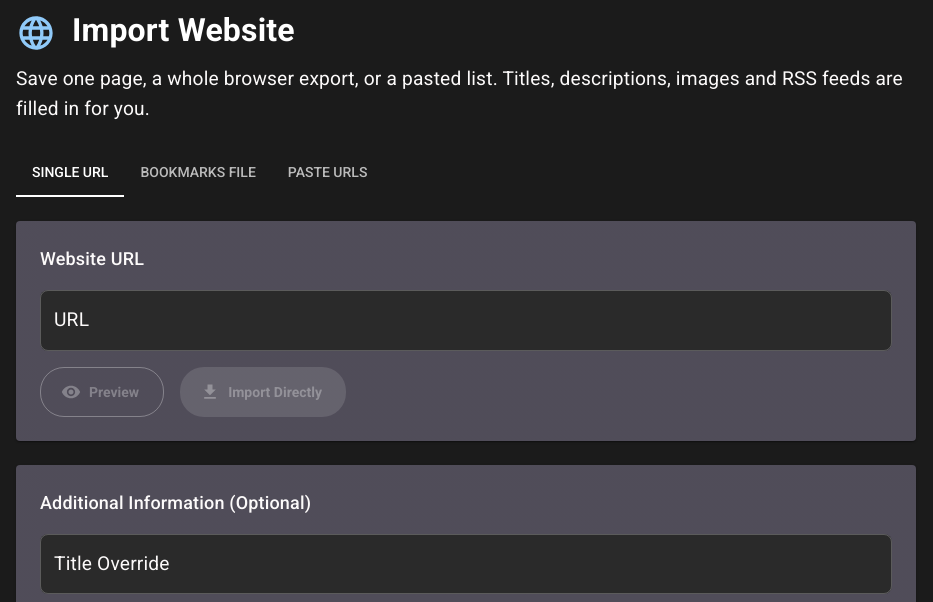
WebsiteImportPage › rejects an invalid URL on preview without hitting the network
Type "not a url" into the field labelled "URL".
click(466, 320); type("not a url")  # box [40,290,892,351]
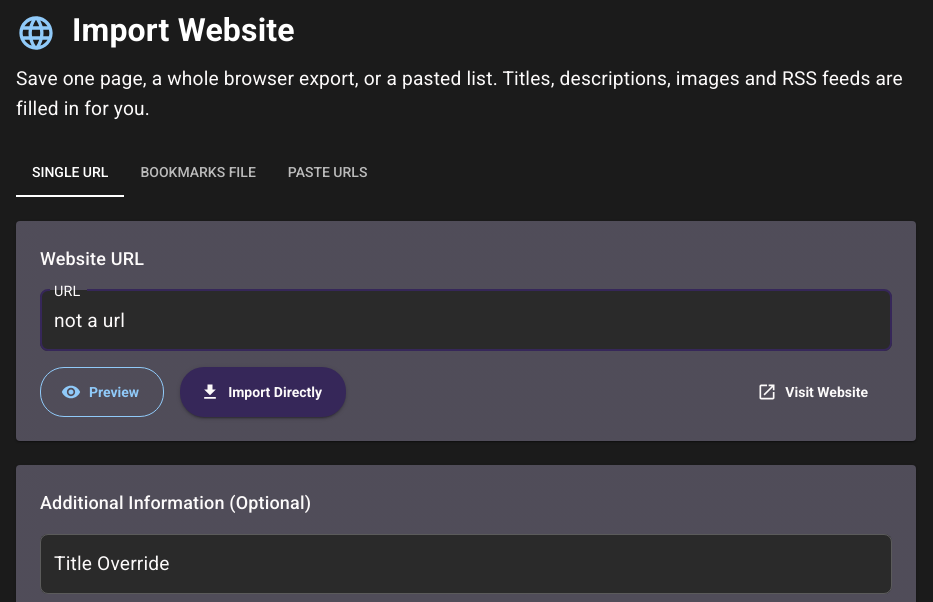
Click the button "Preview".
click(102, 392)  # box [40,367,164,417]
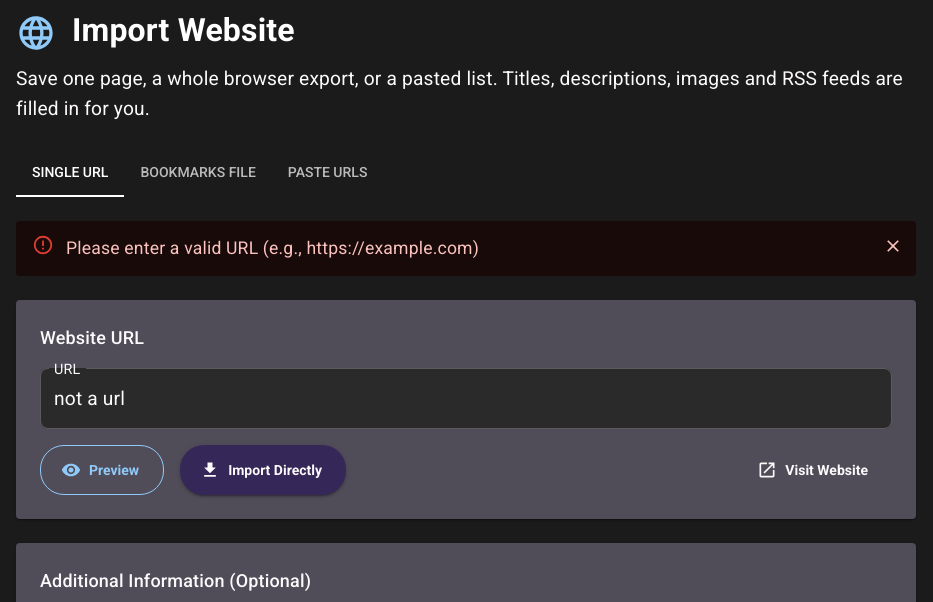
Expected: the text "Please enter a valid URL (e.g., https://example.com)" is shown, [66,238,479,258]
